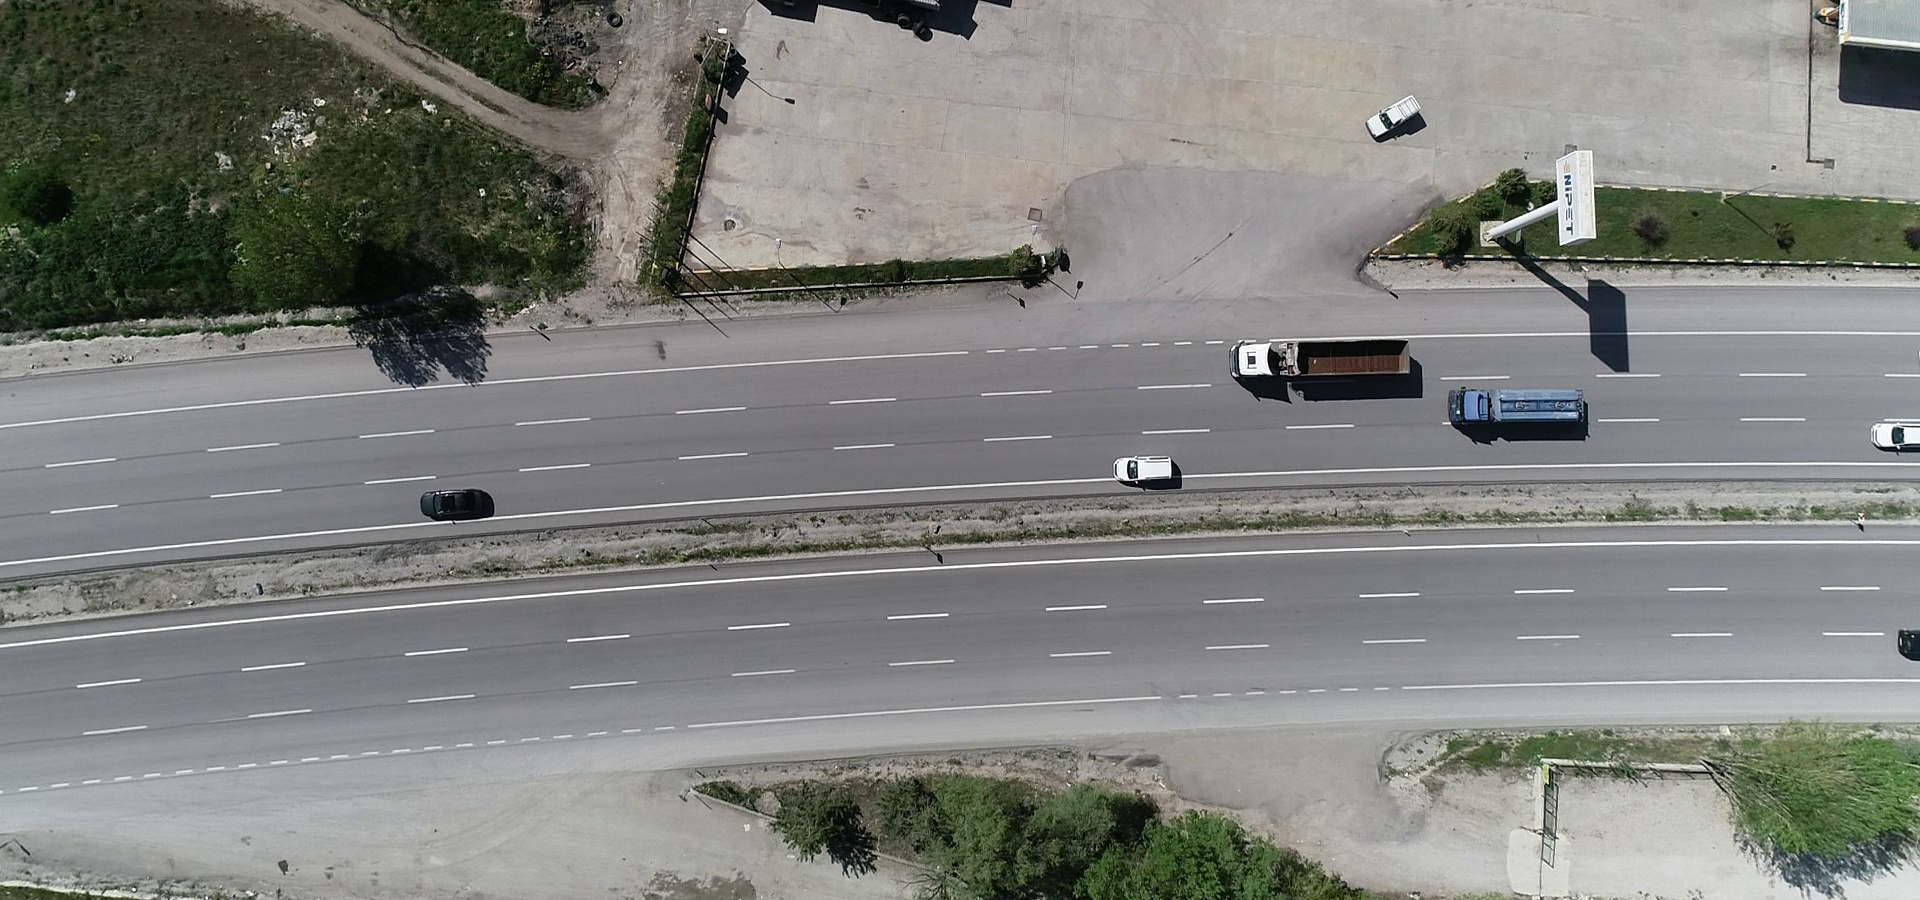araba: (414, 476, 492, 528), (1109, 451, 1191, 487), (1873, 411, 1920, 454), (1887, 620, 1920, 654)
kamyon: (1216, 333, 1414, 392), (1439, 380, 1600, 433)
kamyonet: (1369, 87, 1427, 144)
